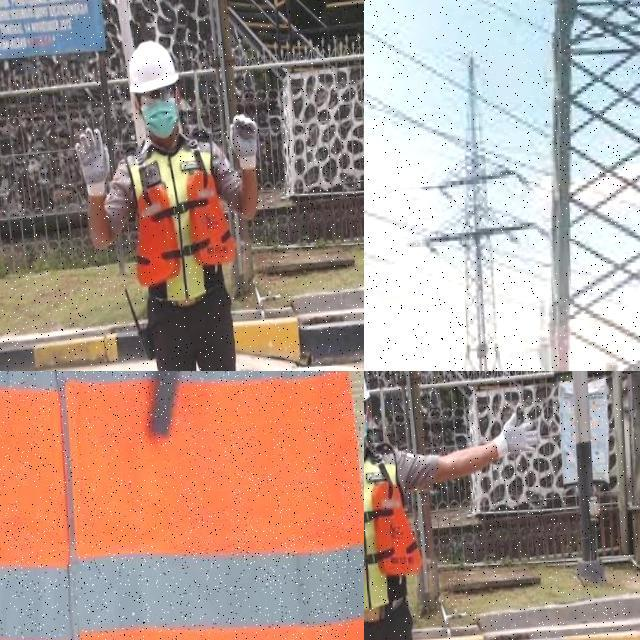helmet: (125, 35, 187, 102)
vest: (0, 371, 364, 640), (119, 132, 242, 312), (364, 448, 424, 616)
